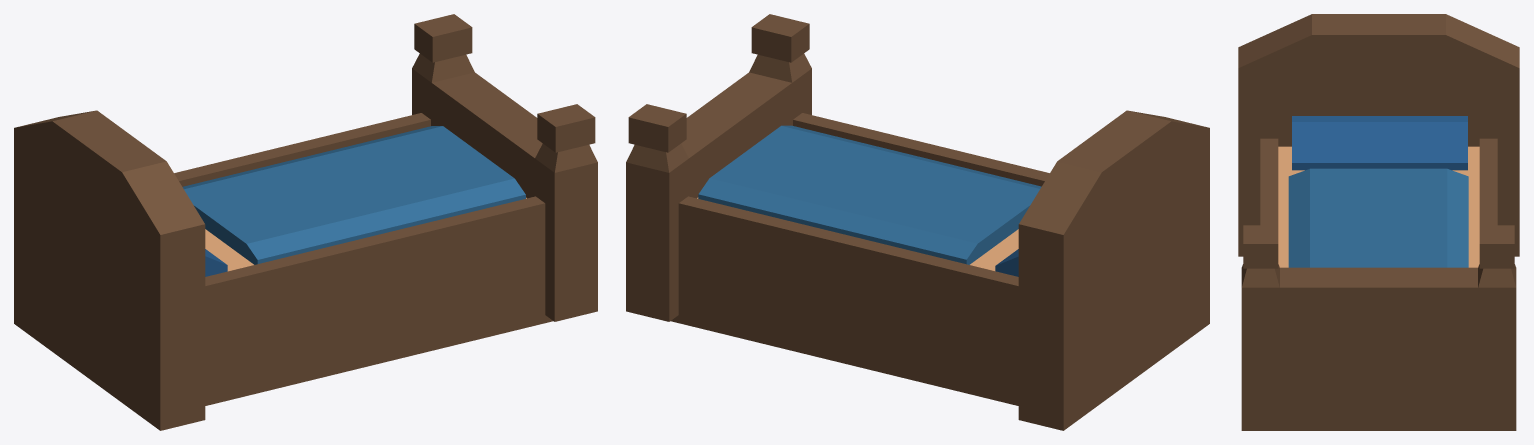
The model's file is Bett.fbx.
The picture shows the model from 3 angles, left to right: view 1: azimuth 30°, elevation 25°; view 2: azimuth 150°, elevation 25°; view 3: azimuth 270°, elevation 25°; orthographic projection. The views are drawn at different scales.
Visible parts, largest first — view 1: Cube.020; view 2: Cube.020; view 3: Cube.020.
Part boxes in pixels (x1,y1,x2,y2): Cube.020: [14, 14, 597, 430]; Cube.020: [626, 14, 1209, 430]; Cube.020: [1238, 14, 1519, 430].
Size of the model in its own units: 407 by 204 by 235.
